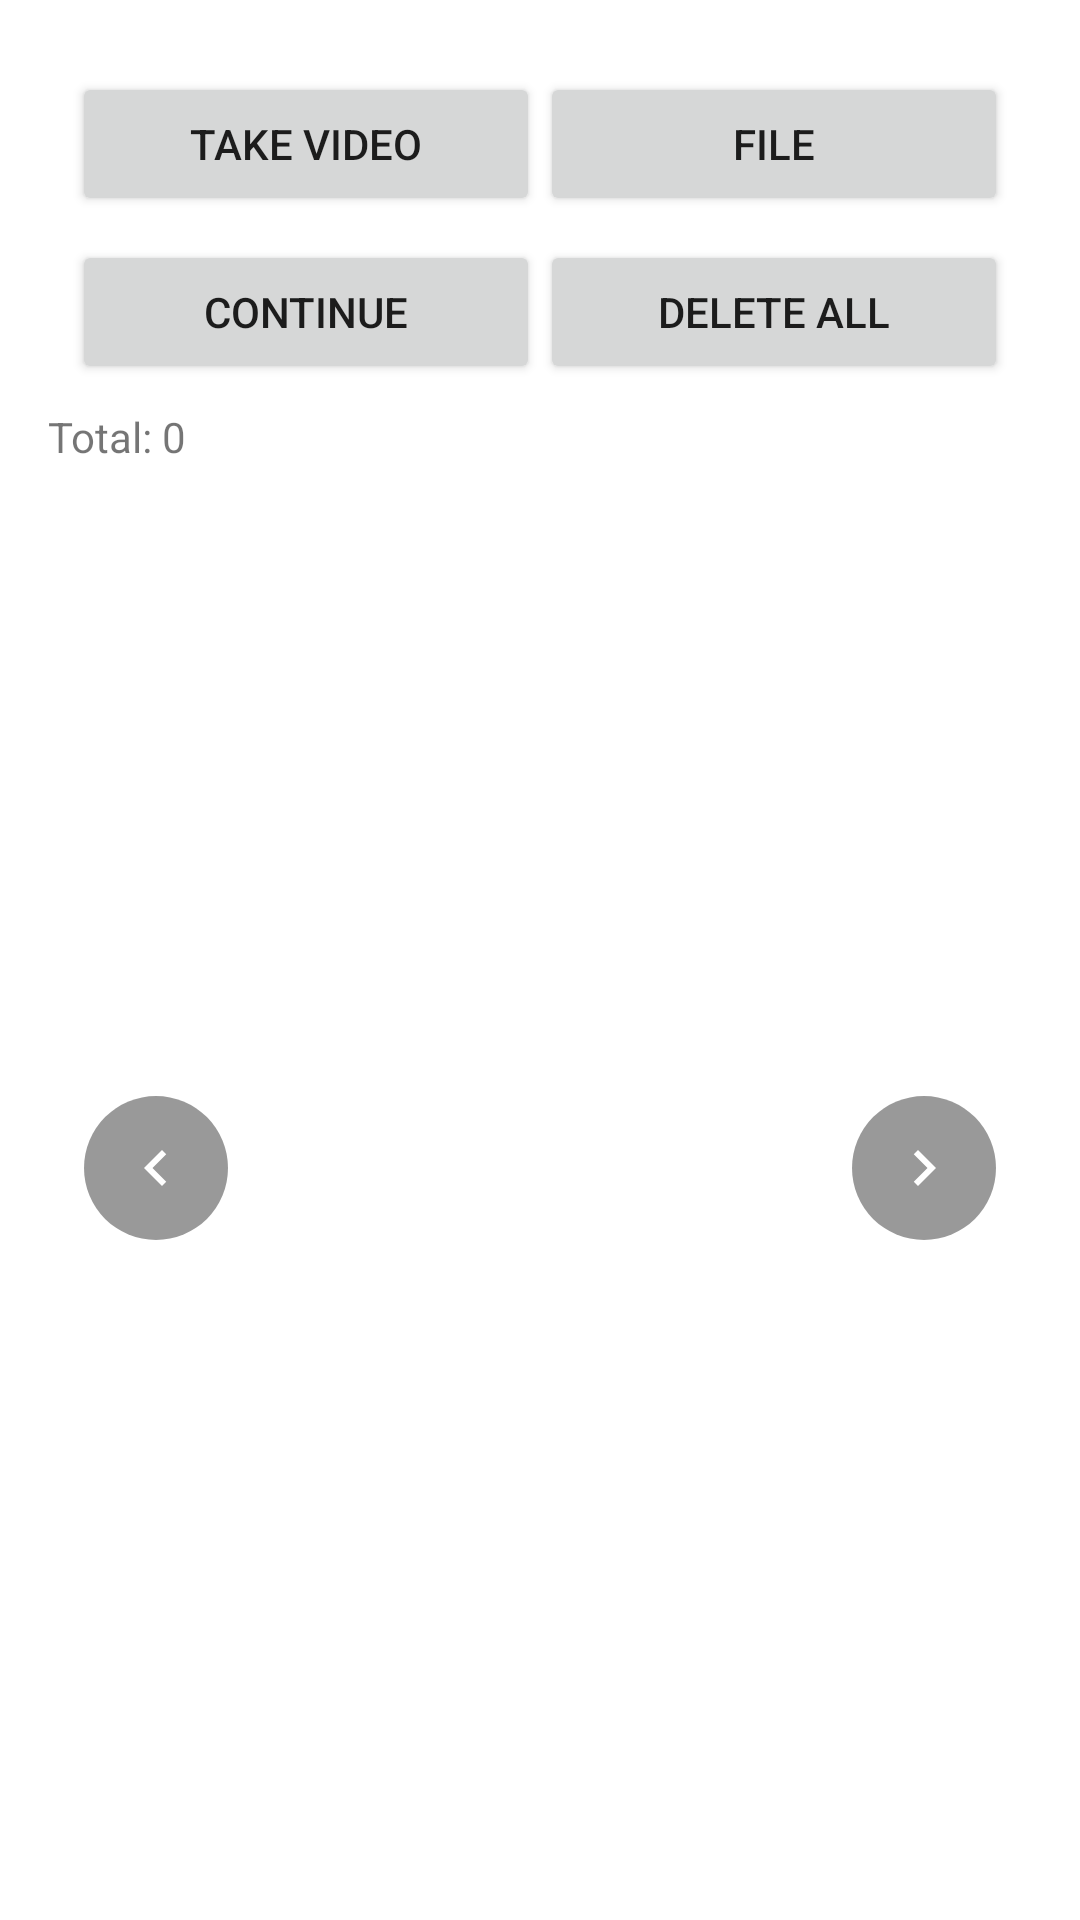

Named icons in this screenshot (1080w x 1920h) and their centers, point (x, y):
Next: point (924, 1168)
Previous: point (156, 1168)
